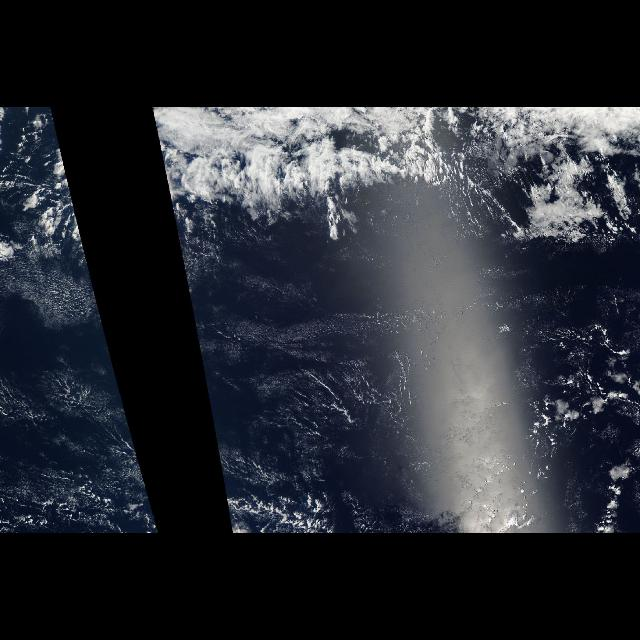Sugar: (186, 252, 524, 464), (15, 283, 136, 449)
